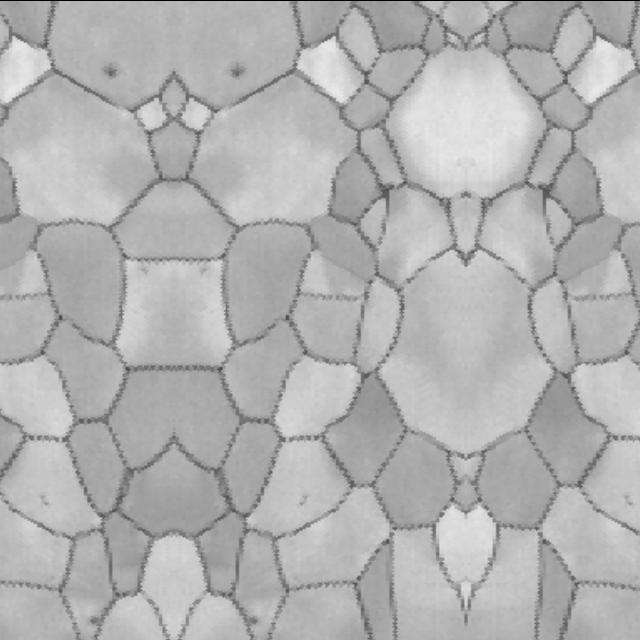good_void: (293, 480, 320, 512), (29, 480, 56, 512), (614, 480, 640, 512), (223, 60, 243, 81), (106, 60, 126, 81), (86, 613, 102, 628), (248, 613, 263, 628)
